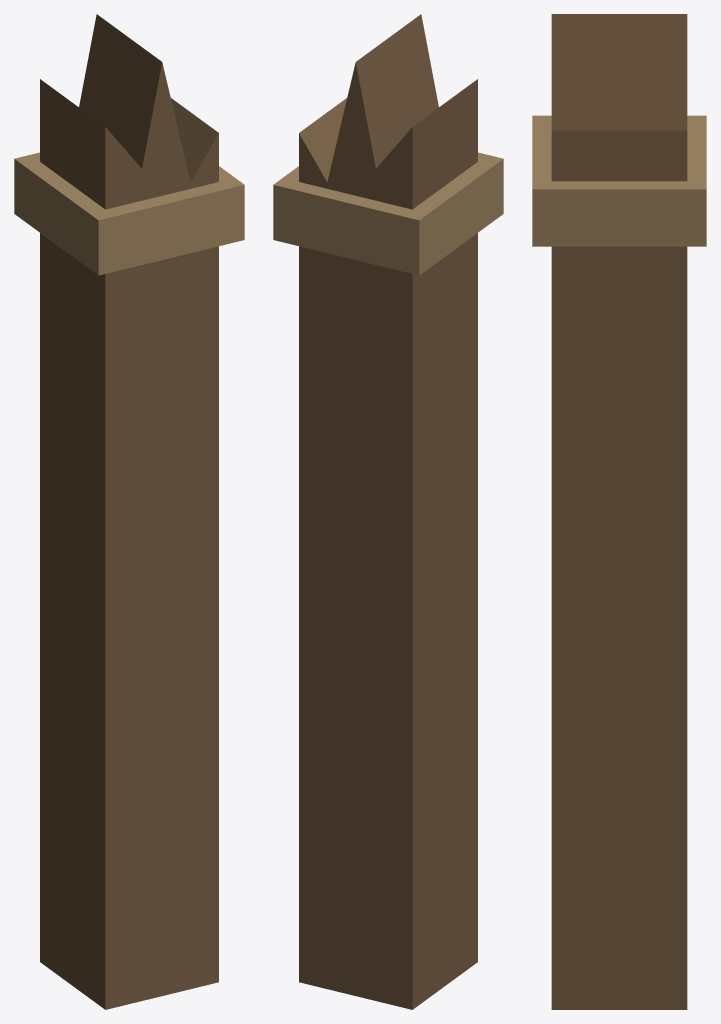
Rendered from TW_WOOD_END_BROKEN_B_LOD0.glb.
The picture shows the model from 3 angles, left to right: view 1: azimuth 30°, elevation 25°; view 2: azimuth 150°, elevation 25°; view 3: azimuth 270°, elevation 25°; orthographic projection. The views are drawn at different scales.
Visible parts, largest first — view 1: TW_WOOD_END_BROKEN_B_LOD0; view 2: TW_WOOD_END_BROKEN_B_LOD0; view 3: TW_WOOD_END_BROKEN_B_LOD0.
Boxes of the visible parts, <box> form: TW_WOOD_END_BROKEN_B_LOD0: <box>14,14,244,1009</box>; TW_WOOD_END_BROKEN_B_LOD0: <box>273,14,503,1009</box>; TW_WOOD_END_BROKEN_B_LOD0: <box>532,14,706,1009</box>.
Size of the model in its own units: 0.18 by 1.1 by 0.18.
1 material, 1 textured.
